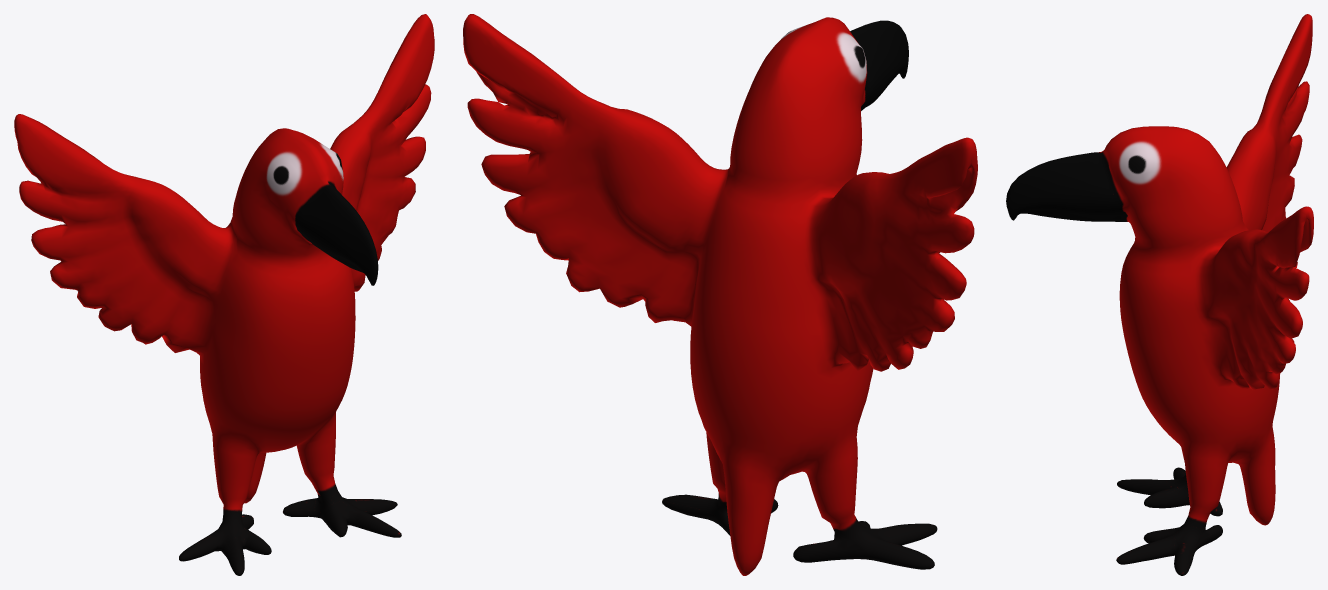
Rendered from parrot.fbx.
3 renders of one model, left to right at view 1: azimuth 30°, elevation 25°; view 2: azimuth 150°, elevation 25°; view 3: azimuth 270°, elevation 25°, orthographic. The views are drawn at different scales.
Visible parts, largest first — view 1: Retopo_input; view 2: Retopo_input; view 3: Retopo_input.
Boxes of the visible parts, x1=… form: Retopo_input: x1=14, y1=14, x2=434, y2=575; Retopo_input: x1=463, y1=14, x2=977, y2=575; Retopo_input: x1=1006, y1=14, x2=1313, y2=575.
Size of the model in its own units: 199 by 193 by 130.
Materials: 1 (1 with a texture image).
